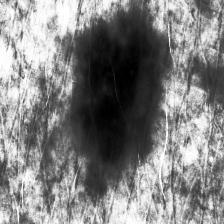Benign Marking or Mole: (63, 7, 190, 201)
